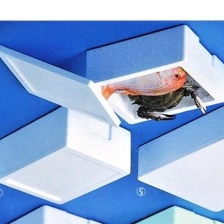foam_box: (0, 23, 224, 129), (0, 102, 135, 208), (135, 103, 223, 214), (0, 201, 113, 224), (125, 202, 224, 224)
